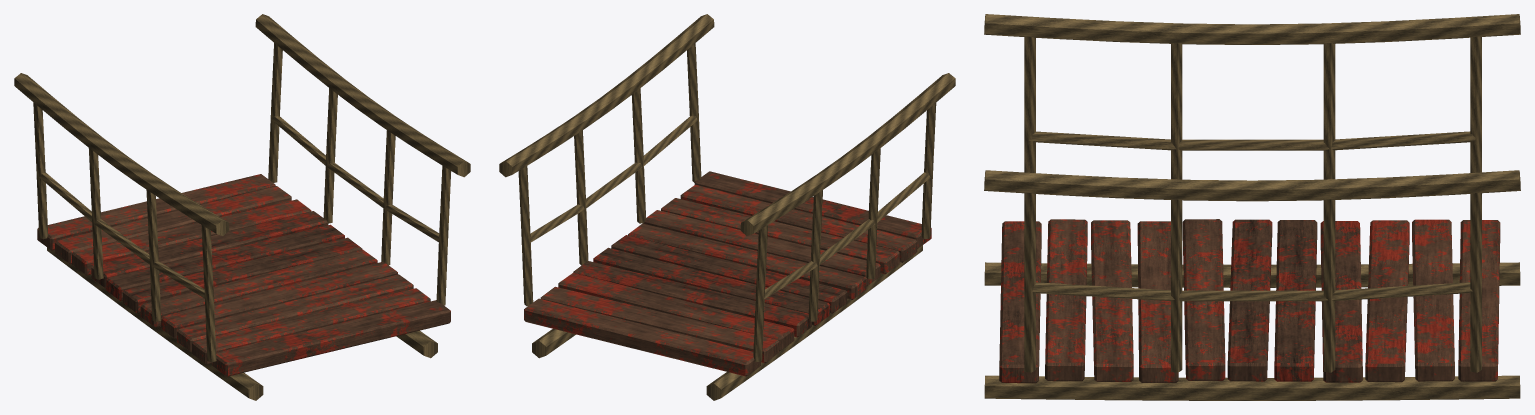
File: Rope_Bridge_Deck_A.glb
3 views of the same model, side by side, from view 1: azimuth 30°, elevation 25°; view 2: azimuth 150°, elevation 25°; view 3: azimuth 270°, elevation 25° (orthographic). The views are drawn at different scales.
Parts seen in each view (by area): view 1: Rope_Bridge_Deck_A__Timber, Rope_Bridge_Deck_A__Rope; view 2: Rope_Bridge_Deck_A__Timber, Rope_Bridge_Deck_A__Rope; view 3: Rope_Bridge_Deck_A__Timber, Rope_Bridge_Deck_A__Rope.
Part boxes in pixels (x1=…): Rope_Bridge_Deck_A__Timber: x1=37, y1=174, x2=450, y2=376; Rope_Bridge_Deck_A__Rope: x1=14, y1=14, x2=470, y2=400; Rope_Bridge_Deck_A__Timber: x1=524, y1=171, x2=931, y2=376; Rope_Bridge_Deck_A__Rope: x1=499, y1=14, x2=955, y2=400; Rope_Bridge_Deck_A__Timber: x1=999, y1=219, x2=1500, y2=383; Rope_Bridge_Deck_A__Rope: x1=984, y1=14, x2=1520, y2=400.
Size of the model in its own units: 6.11 by 4.37 by 8.42.
2 materials, 2 textured.
